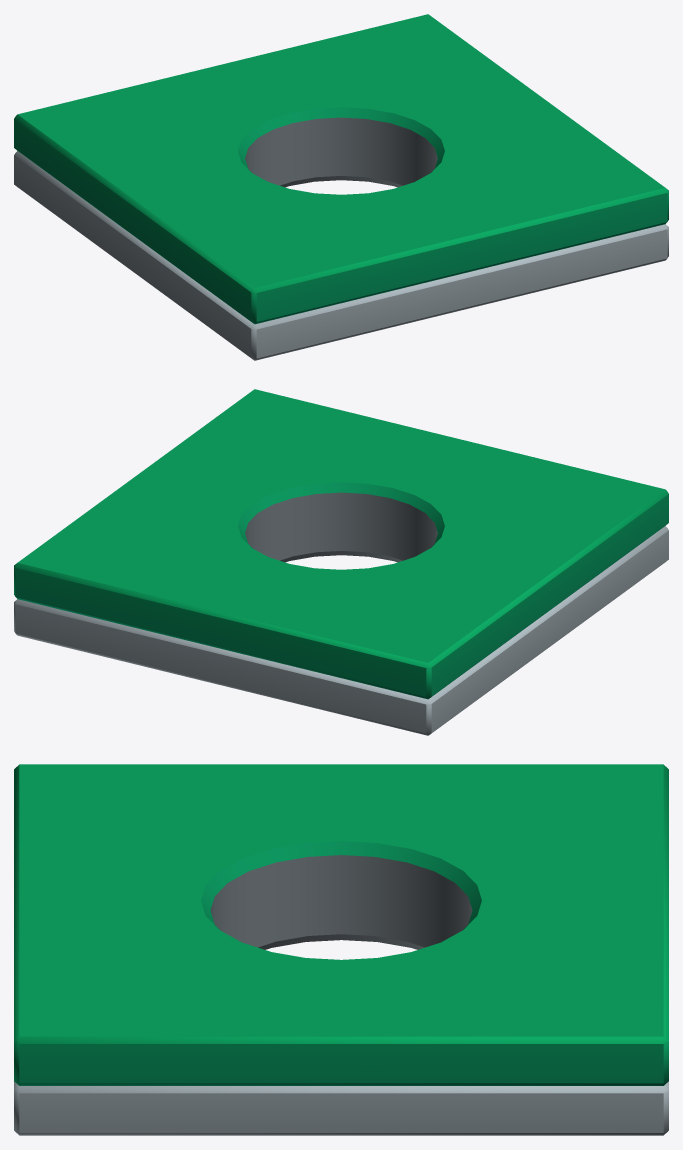
The model's file is kaykit_platform_hole_6x6x1_green.glb.
The picture shows the model from 3 angles, top to bottom: view 1: azimuth 30°, elevation 25°; view 2: azimuth 150°, elevation 25°; view 3: azimuth 270°, elevation 25°; orthographic projection. The views are drawn at different scales.
Parts seen in each view (by area): view 1: platform_hole_6x6x1_green_visual; view 2: platform_hole_6x6x1_green_visual; view 3: platform_hole_6x6x1_green_visual.
Part boxes in pixels (<box>): platform_hole_6x6x1_green_visual: <box>14,14,668,360</box>; platform_hole_6x6x1_green_visual: <box>14,389,668,735</box>; platform_hole_6x6x1_green_visual: <box>14,764,668,1135</box>.
Size of what is drawn, in the model's own units: 6 by 1 by 6.
Materials: 1 (1 with a texture image).
